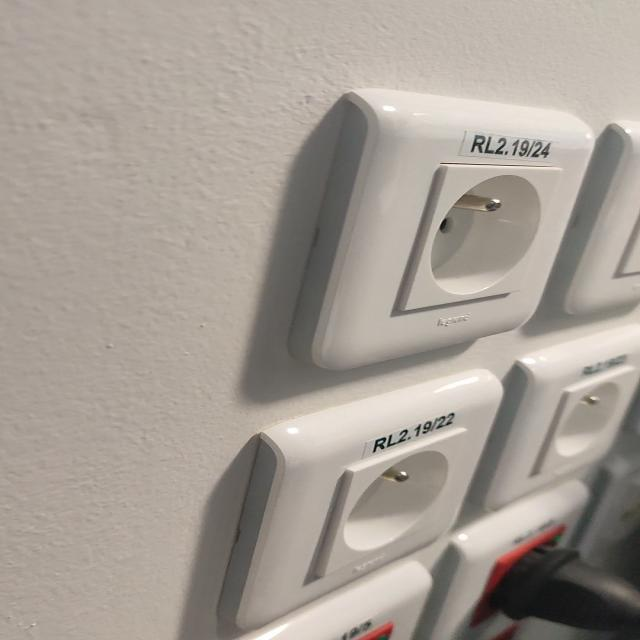house plug: (397, 164, 554, 311), (315, 427, 465, 580), (534, 366, 632, 478)
